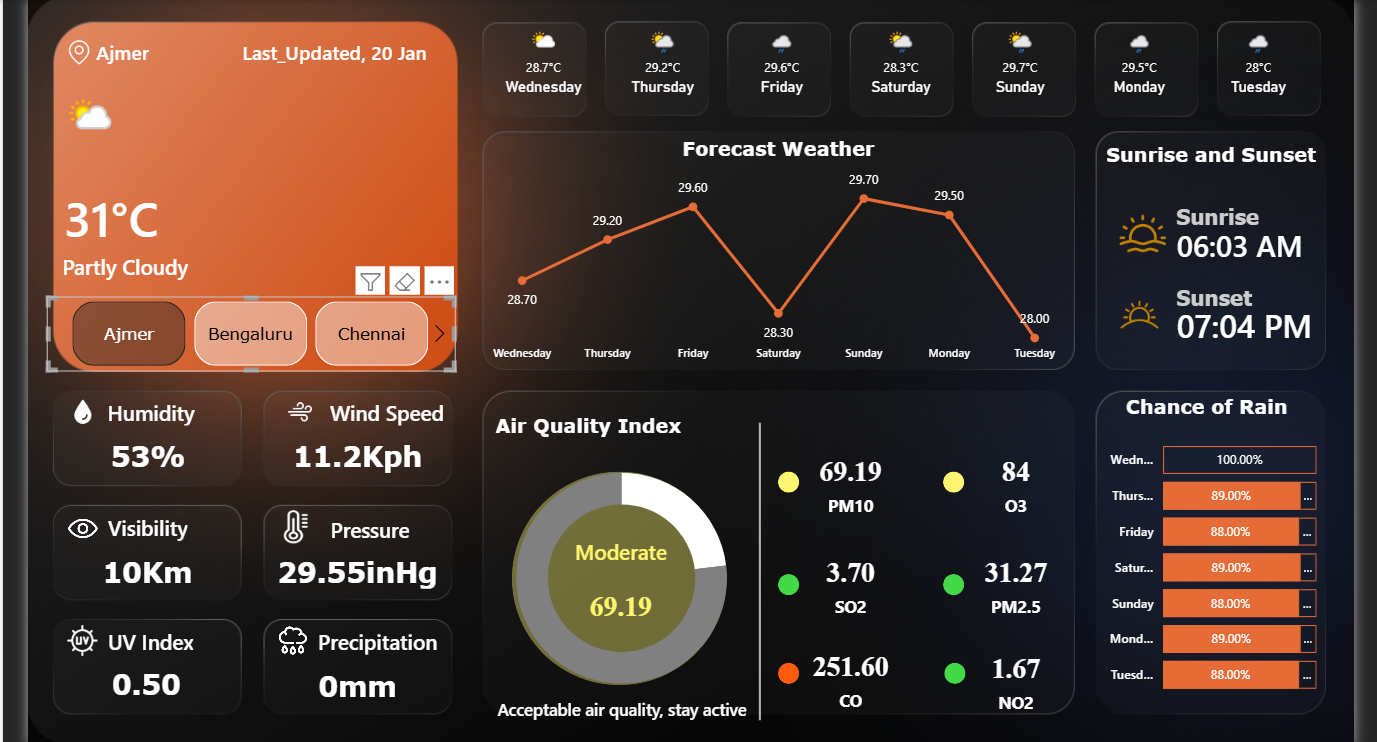

What the dashboard file says about the page in this screenshot:
{"tool":"powerbi","page":{"name":"Page 1","canvas":[1280,720],"ordinal":0},"visuals":[{"type":"shape","box":[467.5,455.9,207.8,206.3],"z":0},{"type":"advancedSlicerVisual","fields":{"Values":["Location_Name.location.name"]},"box":[18.1,287.1,394.5,72.4],"z":1000},{"type":"shape","box":[31.7,174.6,168.8,62],"z":2000},{"type":"shape","box":[31.7,242.4,363.6,31.7],"z":3000},{"type":"shape","box":[63.5,34.6,124.1,33.2],"z":4000},{"type":"shape","box":[205.1,35,207.5,32.6],"z":5000},{"type":"image","box":[31.7,34.6,36.1,33.2],"z":6000},{"type":"cardVisual","fields":{"Data":["Min(Current.current.condition.icon)"]},"box":[18.8,67.8,131.3,106.8],"z":7000},{"type":"shape","box":[75,380.9,125.5,34.6],"z":8000},{"type":"shape","box":[289.5,381.2,123.1,33.8],"z":9000},{"type":"shape","box":[75,489.1,129.8,41.8],"z":10000},{"type":"shape","box":[290,490.5,122.6,41.8],"z":11000},{"type":"shape","box":[75,598.7,129.8,41.8],"z":12000},{"type":"shape","box":[277,598.7,135.6,41.8],"z":13000},{"type":"shape","box":[74.8,415,82,51.9],"z":14000},{"type":"shape","box":[249.7,415,136.3,51.9],"z":15000},{"type":"shape","box":[61.5,530.8,107.4,44.6],"z":16000},{"type":"shape","box":[234,530.8,167.7,44.6],"z":17000},{"type":"shape","box":[264.2,640.6,107.4,44.6],"z":18000},{"type":"card","fields":{"Values":["Sum(Current.current.uv)"]},"box":[54.8,640.6,119.7,44.7],"z":19000},{"type":"image","box":[31.7,490.5,43.3,40.4],"z":20000},{"type":"image","box":[233.7,598.7,43.3,41.8],"z":21000},{"type":"image","box":[31.7,380.9,43.3,34.6],"z":22000},{"type":"image","box":[233.7,489.1,49.1,41.8],"z":23000},{"type":"image","box":[18.8,598.7,66.4,41.8],"z":24000},{"type":"image","box":[233.7,380.9,56.3,34.6],"z":25000},{"type":"advancedSlicerVisual","fields":{"Values":["Forecast_Day.DayName"]},"box":[438.6,21.6,810.8,89.5],"z":26000},{"type":"lineChart","title":"Forecast Weather","fields":{"Category":["Forecast_Day.DayName"],"Y":["Sum(Forecast_Day.forecast.forecastday.day.avgtemp_c)"]},"box":[439.1,132.7,570.6,226.8],"z":27000},{"type":"shape","box":[1038.8,132.7,210.6,34.6],"z":28000},{"type":"shape","box":[1106.6,216.4,137.1,41.8],"z":29000},{"type":"shape","box":[1106.6,291.4,139.9,43.3],"z":30000},{"type":"shape","box":[1106.6,194.8,112.5,31.7],"z":31000},{"type":"shape","box":[1106.6,269.8,106.8,34.6],"z":32000},{"type":"image","box":[1038.8,275.6,67.8,59.2],"z":33000},{"type":"image","box":[1044.6,199.1,62,54.8],"z":34000},{"type":"barChart","title":"Chance of Rain","fields":{"Y":["Sum(Forecast_Day.ChancePercent)","Sum(Forecast_Day.Left_Value_Rain%)"],"Category":["Forecast_Day.DayName"]},"box":[1027.2,382.3,222.2,303],"z":35000},{"type":"card","fields":{"Values":["Sum(Current.current.air_quality.pm10)"]},"box":[744.5,432.8,99.6,67.8],"z":36000},{"type":"card","fields":{"Values":["Sum(Current.current.air_quality.o3)"]},"box":[903.6,433.1,100.1,67.6],"z":37000},{"type":"card","fields":{"Values":["Sum(Current.current.air_quality.so2)"]},"box":[744.5,530.9,99.6,67.8],"z":38000},{"type":"card","fields":{"Values":["Sum(Current.current.air_quality.pm2_5)"]},"box":[903.6,530.8,100.1,67.6],"z":39000},{"type":"card","fields":{"Values":["Sum(Current.current.air_quality.co)"]},"box":[744.5,621.8,99.6,67.8],"z":40000},{"type":"card","fields":{"Values":["Sum(Current.current.air_quality.no2)"]},"box":[903.6,622.5,100.1,68.8],"z":41000},{"type":"shape","box":[451.6,380.9,239.5,60.6],"z":42000},{"type":"shape","box":[723.9,456,20.5,20.5],"z":43000},{"type":"shape","box":[723.9,555,20.5,20.5],"z":44000},{"type":"shape","box":[723.9,640.6,20.5,20.5],"z":45000},{"type":"shape","box":[883.1,456,20.5,20.5],"z":46000},{"type":"shape","box":[883.1,555,20.5,20.5],"z":47000},{"type":"shape","box":[884.3,640.6,20.5,20.5],"z":48000},{"type":"shape","box":[688.9,409,35,287.1],"z":49000},{"type":"donutChart","fields":{"Y":["Sum(Current.current.air_quality.pm10)","Measure.Left_Value_PM10"]},"box":[439.1,427.1,267.8,264.2],"z":50000},{"type":"card","fields":{"Values":["Sum(Current.current.air_quality.pm10)"]},"box":[520.8,565.6,102.4,41.8],"z":51000},{"type":"shape","box":[520.8,500.6,102.4,64.9],"z":52000},{"type":"shape","box":[438.6,650.7,268.4,69.3],"z":53000}]}

Visuals, with their boxes on the page's 1280x720 design canvas (x1, y1, x2, y2). These are canvas units, not pixel positions in the 1377x742 screenshot, which may show the page scaled, cropped or inside an application window:
shape: [468, 456, 675, 662]
advancedSlicerVisual - Location_Name.location.name: [18, 287, 413, 360]
shape: [32, 175, 200, 237]
shape: [32, 242, 395, 274]
shape: [64, 35, 188, 68]
shape: [205, 35, 413, 68]
image: [32, 35, 68, 68]
cardVisual - Min(Current.current.condition.icon): [19, 68, 150, 175]
shape: [75, 381, 200, 416]
shape: [290, 381, 413, 415]
shape: [75, 489, 205, 531]
shape: [290, 490, 413, 532]
shape: [75, 599, 205, 640]
shape: [277, 599, 413, 640]
shape: [75, 415, 157, 467]
shape: [250, 415, 386, 467]
shape: [62, 531, 169, 575]
shape: [234, 531, 402, 575]
shape: [264, 641, 372, 685]
card - Sum(Current.current.uv): [55, 641, 174, 685]
image: [32, 490, 75, 531]
image: [234, 599, 277, 640]
image: [32, 381, 75, 416]
image: [234, 489, 283, 531]
image: [19, 599, 85, 640]
image: [234, 381, 290, 416]
advancedSlicerVisual - Forecast_Day.DayName: [439, 22, 1249, 111]
"Forecast Weather" lineChart: [439, 133, 1010, 360]
shape: [1039, 133, 1249, 167]
shape: [1107, 216, 1244, 258]
shape: [1107, 291, 1246, 335]
shape: [1107, 195, 1219, 226]
shape: [1107, 270, 1213, 304]
image: [1039, 276, 1107, 335]
image: [1045, 199, 1107, 254]
"Chance of Rain" barChart: [1027, 382, 1249, 685]
card - Sum(Current.current.air_quality.pm10): [744, 433, 844, 501]
card - Sum(Current.current.air_quality.o3): [904, 433, 1004, 501]
card - Sum(Current.current.air_quality.so2): [744, 531, 844, 599]
card - Sum(Current.current.air_quality.pm2_5): [904, 531, 1004, 598]
card - Sum(Current.current.air_quality.co): [744, 622, 844, 690]
card - Sum(Current.current.air_quality.no2): [904, 622, 1004, 691]
shape: [452, 381, 691, 442]
shape: [724, 456, 744, 476]
shape: [724, 555, 744, 576]
shape: [724, 641, 744, 661]
shape: [883, 456, 904, 476]
shape: [883, 555, 904, 576]
shape: [884, 641, 905, 661]
shape: [689, 409, 724, 696]
donutChart - Sum(Current.current.air_quality.pm10) x Measure.Left_Value_PM10: [439, 427, 707, 691]
card - Sum(Current.current.air_quality.pm10): [521, 566, 623, 607]
shape: [521, 501, 623, 566]
shape: [439, 651, 707, 720]
